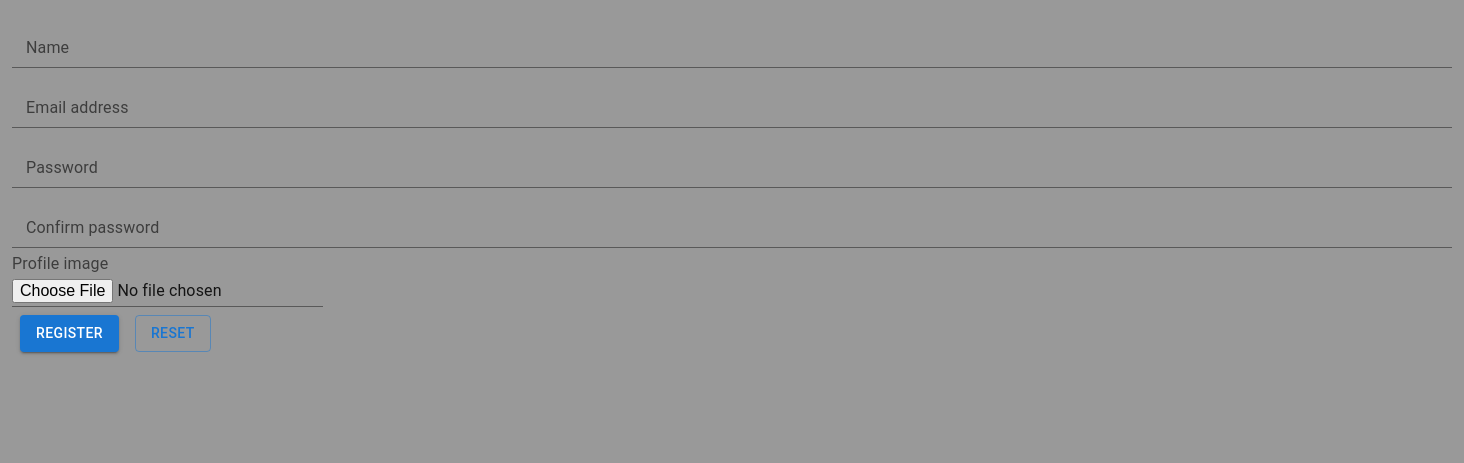
Test case: Register › schema validation › should display name too short error
Type "a" into the field labelled "Name" at point(732, 52), box left=12, top=36, right=1452, bottom=68
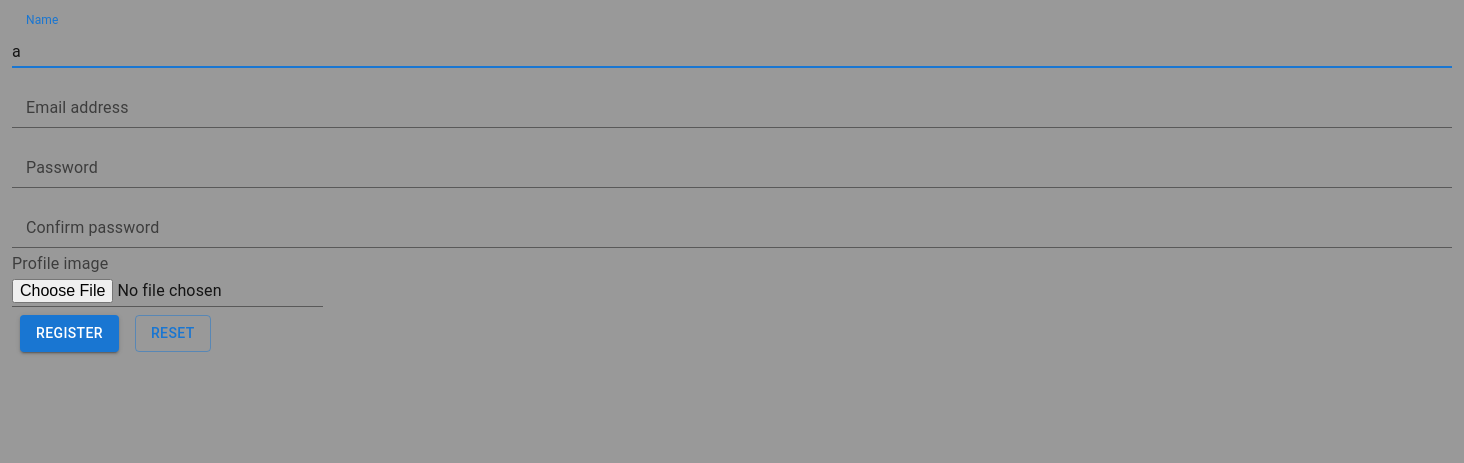
Click the button "Register" at point(70, 333), box left=20, top=315, right=119, bottom=352
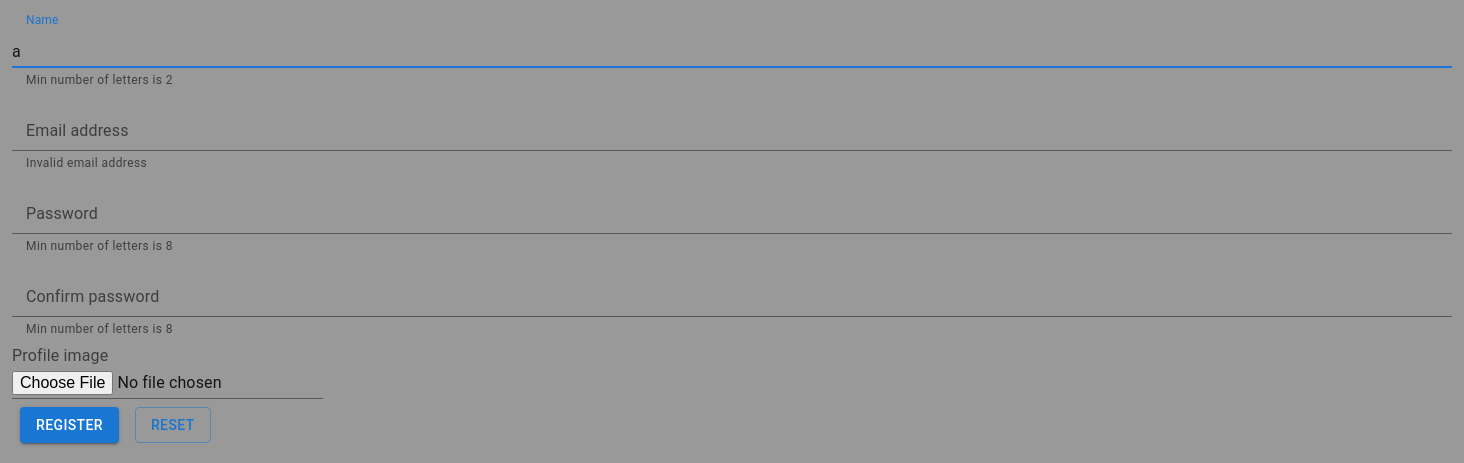
Check: the text "Min number of letters is 2" is shown, box left=26, top=73, right=173, bottom=87
